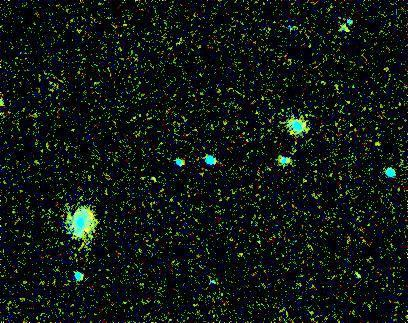star: (64, 208, 94, 238)
